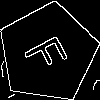F: (22, 28, 77, 77)
